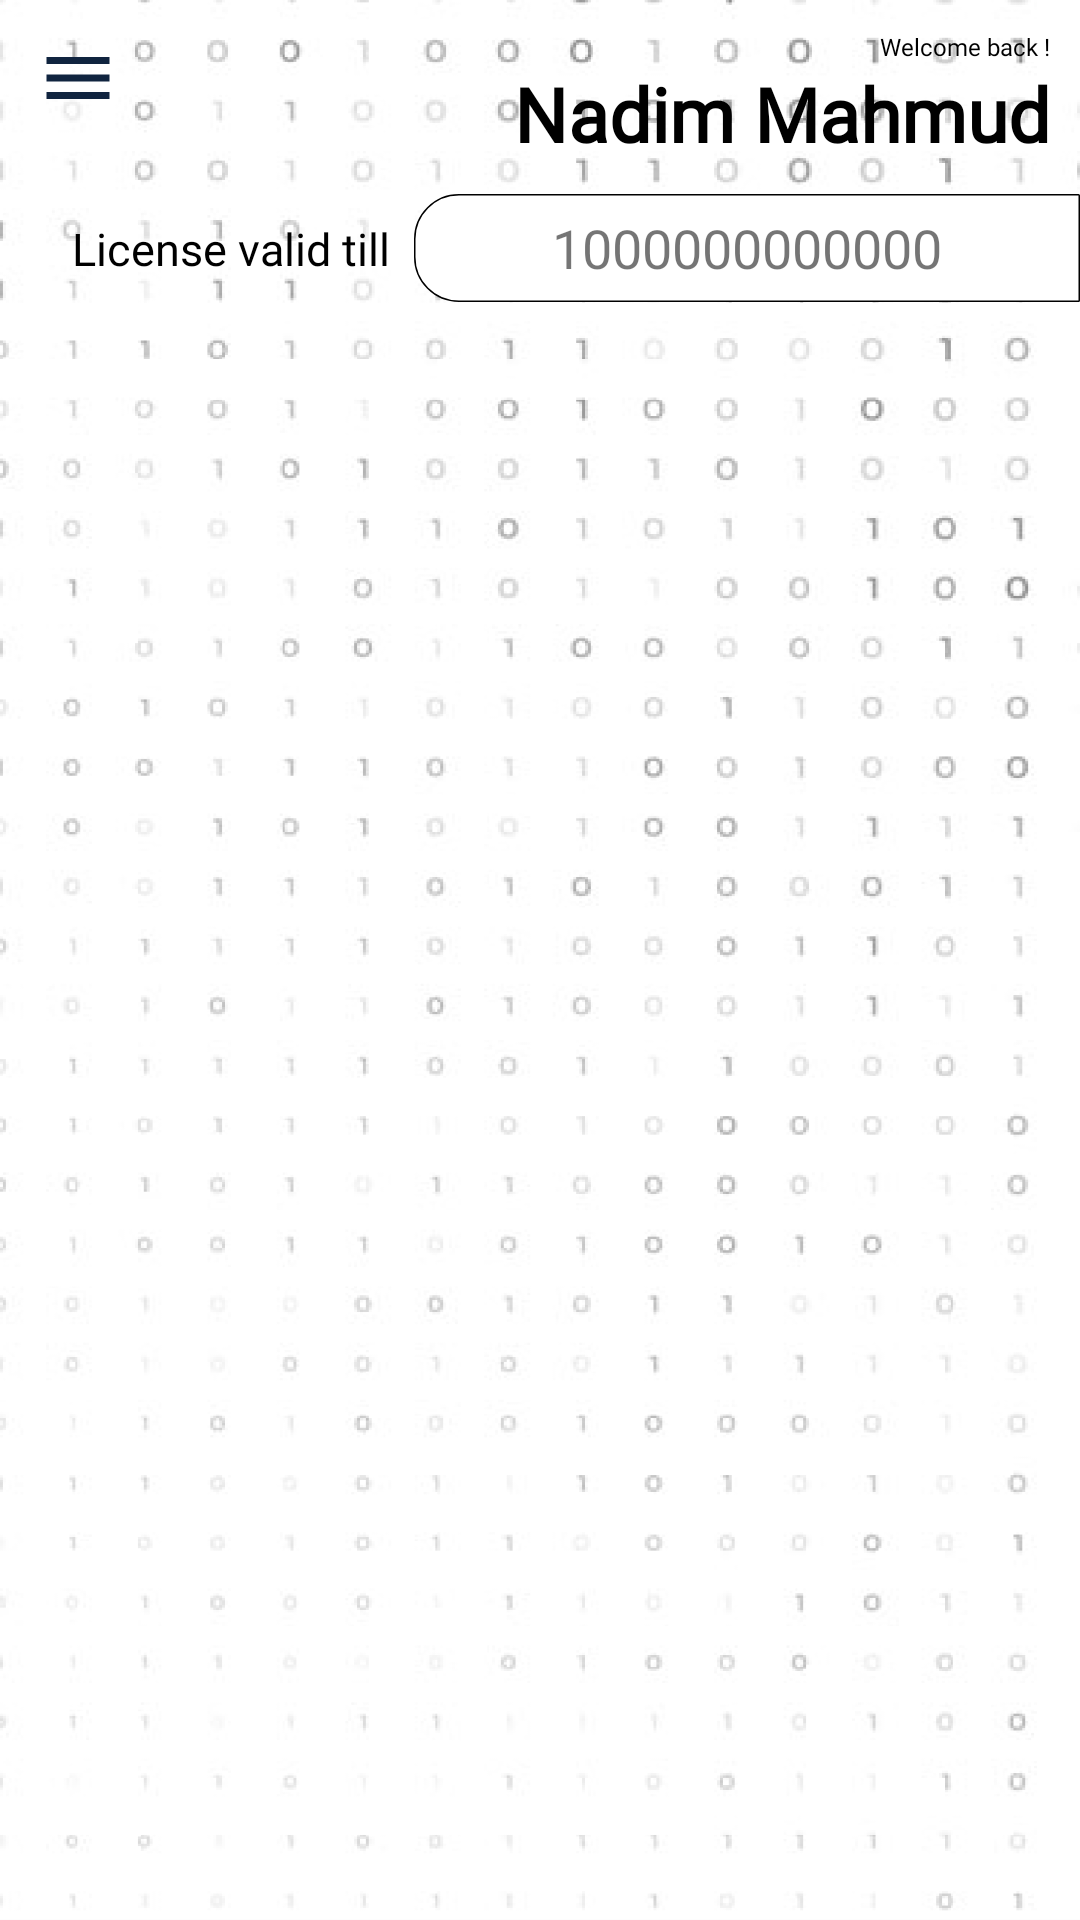

Icons on this 1080x1920 Android screen, each with the point to tap as [x,y]:
menu: [78,69]
